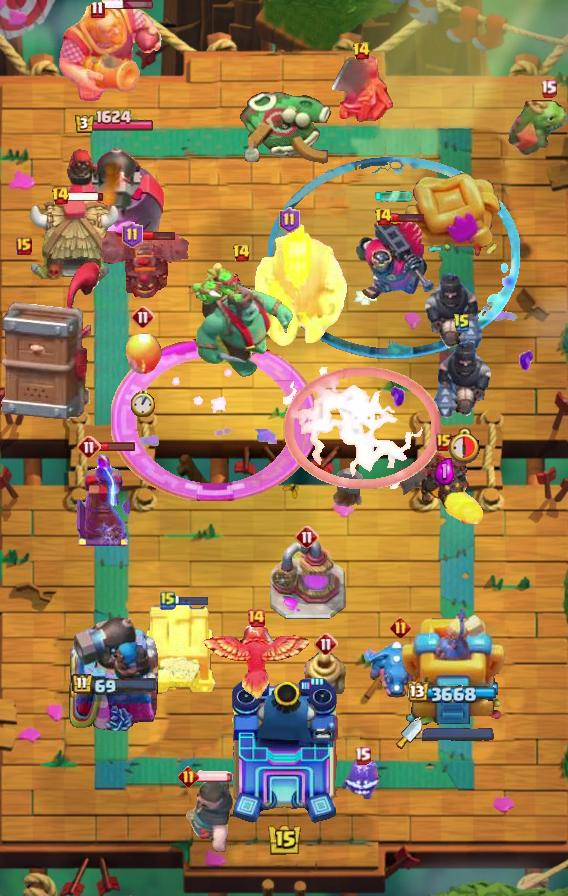archer-evolution: (398, 444, 490, 524), (102, 231, 196, 301)
bar: (401, 601, 505, 731)
barbarian-evolution: (283, 367, 441, 489)
bomb: (139, 601, 219, 695)
dart-goblin: (0, 260, 100, 422)
electro-spirit: (434, 459, 454, 486)
electro-wizard: (502, 90, 568, 158)
elixir: (444, 426, 479, 464), (131, 391, 155, 418)
emote: (102, 0, 154, 10), (196, 770, 234, 782), (67, 190, 104, 202), (390, 211, 426, 223), (99, 441, 136, 452), (140, 231, 176, 242), (173, 595, 209, 606)
giant-skeleton: (252, 221, 348, 349), (54, 2, 166, 104)
goblin-drill: (303, 648, 349, 700)
golden-knight: (200, 623, 312, 703)
graveyard: (364, 638, 436, 700)
hog: (123, 332, 163, 376)
ice-spirit: (374, 190, 414, 202)
ice-spirit-evolution-symbol: (73, 452, 133, 548)
inferno-dragon: (423, 263, 485, 351), (431, 331, 493, 419)
inferno-tower: (353, 214, 435, 302)
king-tower: (228, 676, 340, 826)
king-tower-bar: (422, 727, 494, 741)
knight-evolution: (111, 338, 318, 502)
lava-hound: (188, 261, 294, 379)
pad_0: (268, 156, 520, 360)
pekka: (268, 539, 346, 621)
prince: (26, 196, 120, 286)
royal-giant-evolution: (327, 56, 395, 126)
royal-hog: (166, 777, 236, 855)
selected: (73, 109, 154, 135), (409, 683, 500, 706), (70, 673, 157, 697)
spear-goblin: (342, 755, 382, 799)
text: (131, 305, 155, 329), (77, 435, 101, 459), (295, 525, 319, 549), (314, 632, 338, 656), (279, 207, 300, 233), (121, 222, 142, 248), (389, 617, 410, 639), (178, 765, 199, 786), (352, 41, 372, 61), (246, 608, 266, 628), (51, 186, 70, 206), (374, 207, 393, 227), (232, 243, 251, 263), (453, 313, 471, 333), (353, 747, 371, 765), (540, 78, 557, 97), (160, 590, 176, 610), (16, 237, 32, 255), (436, 433, 452, 451), (91, 1, 105, 20)
tower-bar: (63, 138, 164, 256), (68, 611, 160, 731)
